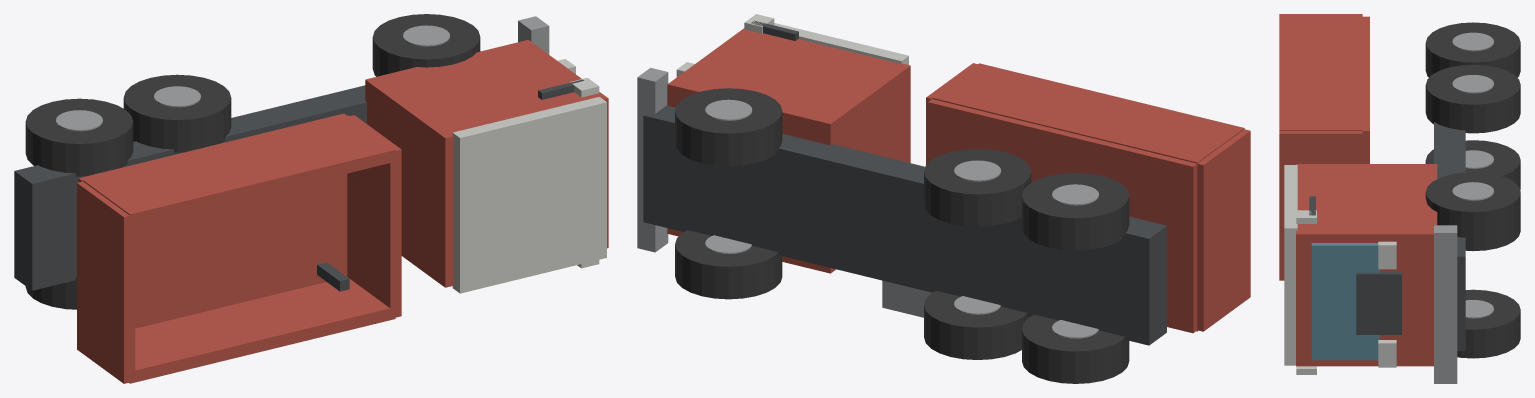
File: Hino500_EXITA_Paddy_Tipper.glb
The picture shows the model from 3 angles, left to right: view 1: azimuth 30°, elevation 25°; view 2: azimuth 150°, elevation 25°; view 3: azimuth 270°, elevation 25°; orthographic projection. The views are drawn at different scales.
Parts seen in each view (by area): view 1: HINO500_003, HINO500_004, HINO500_001, HINO500_006, HINO500_005, HINO500_000, HINO500_007, HINO500_008, HINO500_019, HINO500_015, HINO500_011, HINO500_017 (+5 smaller); view 2: HINO500_000, HINO500_001, HINO500_004, HINO500_006, HINO500_007, HINO500_011, HINO500_019, HINO500_015, HINO500_017, HINO500_009, HINO500_013, HINO500_021 (+8 smaller); view 3: HINO500_001, HINO500_006, HINO500_002, HINO500_015, HINO500_011, HINO500_021, HINO500_019, HINO500_008, HINO500_009, HINO500_022, HINO500_003, HINO500_000 (+11 smaller).
Boxes of the visible parts, left/top/right/bottom form: HINO500_003: left=452, top=97, right=606, bottom=293; HINO500_004: left=78, top=113, right=347, bottom=328; HINO500_001: left=365, top=40, right=608, bottom=287; HINO500_006: left=83, top=115, right=395, bottom=226; HINO500_005: left=129, top=277, right=395, bottom=383; HINO500_000: left=14, top=85, right=366, bottom=290; HINO500_007: left=77, top=181, right=135, bottom=383; HINO500_008: left=347, top=115, right=401, bottom=318; HINO500_019: left=25, top=98, right=133, bottom=176; HINO500_015: left=123, top=74, right=231, bottom=152; HINO500_011: left=372, top=14, right=480, bottom=76; HINO500_017: left=25, top=277, right=76, bottom=309; HINO500_000: left=643, top=105, right=1166, bottom=345; HINO500_001: left=667, top=28, right=910, bottom=273; HINO500_004: left=928, top=99, right=1197, bottom=333; HINO500_006: left=932, top=63, right=1244, bottom=163; HINO500_007: left=1197, top=129, right=1250, bottom=331; HINO500_011: left=675, top=88, right=782, bottom=165; HINO500_019: left=1022, top=173, right=1129, bottom=250; HINO500_015: left=924, top=149, right=1031, bottom=226; HINO500_017: left=1022, top=314, right=1129, bottom=383; HINO500_009: left=675, top=230, right=782, bottom=299; HINO500_013: left=924, top=291, right=1029, bottom=359; HINO500_021: left=637, top=67, right=668, bottom=252; HINO500_001: left=1296, top=164, right=1437, bottom=366; HINO500_006: left=1279, top=15, right=1362, bottom=130; HINO500_002: left=1311, top=243, right=1379, bottom=360; HINO500_015: left=1425, top=64, right=1520, bottom=133; HINO500_011: left=1425, top=172, right=1520, bottom=240; HINO500_021: left=1434, top=225, right=1457, bottom=383; HINO500_019: left=1425, top=22, right=1520, bottom=77; HINO500_008: left=1279, top=131, right=1362, bottom=280; HINO500_009: left=1457, top=289, right=1520, bottom=358; HINO500_022: left=1356, top=271, right=1401, bottom=334; HINO500_003: left=1284, top=165, right=1297, bottom=365; HINO500_000: left=1434, top=122, right=1465, bottom=350.
Bounding box in the file's own units: 6.33 × 2.08 × 2.9.
